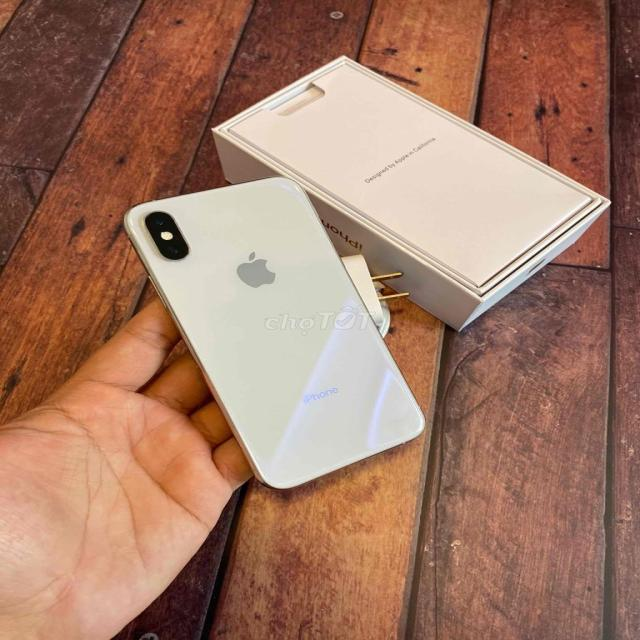gen_x_xs: (124, 177, 423, 488)
